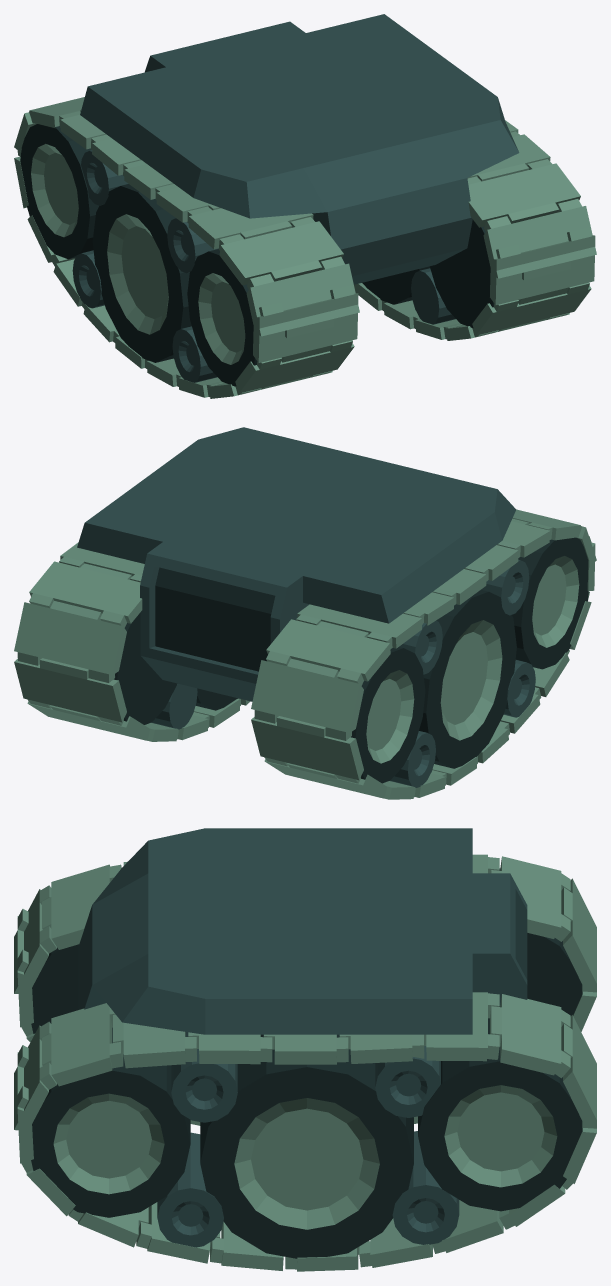
File: tanque_decapitado.obj
3 views of the same model, one above another, from view 1: azimuth 30°, elevation 25°; view 2: azimuth 150°, elevation 25°; view 3: azimuth 270°, elevation 25° (orthographic). The views are drawn at different scales.
Parts seen in each view (by area): view 1: Cube, tank_track1.002, Cylinder.014, Cylinder.011, Cylinder.013, Cylinder.012, Cylinder.015, Cylinder.017, Cylinder.016; view 2: Cube, tank_track1.002, Cylinder.014, Cylinder.013, Cylinder.011, Cylinder.016, Cylinder.015, Cylinder.012, Cylinder.017; view 3: Cube, tank_track1.002, Cylinder.014, Cylinder.013, Cylinder.011, Cylinder.012, Cylinder.016, Cylinder.015, Cylinder.017.
Boxes of the visible parts, <box> form: Cube: <box>80,14,519,284</box>; tank_track1.002: <box>14,97,596,398</box>; Cylinder.014: <box>92,184,429,362</box>; Cylinder.011: <box>187,219,494,386</box>; Cylinder.013: <box>20,124,98,259</box>; Cylinder.012: <box>172,268,455,382</box>; Cylinder.015: <box>167,218,218,273</box>; Cylinder.017: <box>81,150,128,205</box>; Cylinder.016: <box>72,250,104,308</box>; Cube: <box>77,427,516,701</box>; tank_track1.002: <box>14,509,596,799</box>; Cylinder.014: <box>195,590,516,768</box>; Cylinder.013: <box>113,612,425,783</box>; Cylinder.011: <box>512,537,588,669</box>; Cylinder.016: <box>151,683,435,787</box>; Cylinder.015: <box>481,560,529,615</box>; Cylinder.012: <box>504,660,535,717</box>; Cylinder.017: <box>399,620,442,674</box>; Cube: <box>78,828,527,1034</box>; tank_track1.002: <box>14,854,596,1271</box>; Cylinder.014: <box>200,1034,413,1258</box>; Cylinder.013: <box>418,868,582,1211</box>; Cylinder.011: <box>31,944,190,1217</box>; Cylinder.012: <box>157,1132,223,1247</box>; Cylinder.016: <box>392,1131,459,1244</box>; Cylinder.015: <box>171,1032,237,1122</box>; Cylinder.017: <box>375,1046,440,1117</box>.
Size of the model in its own units: 6.21 by 3.94 by 7.93.
